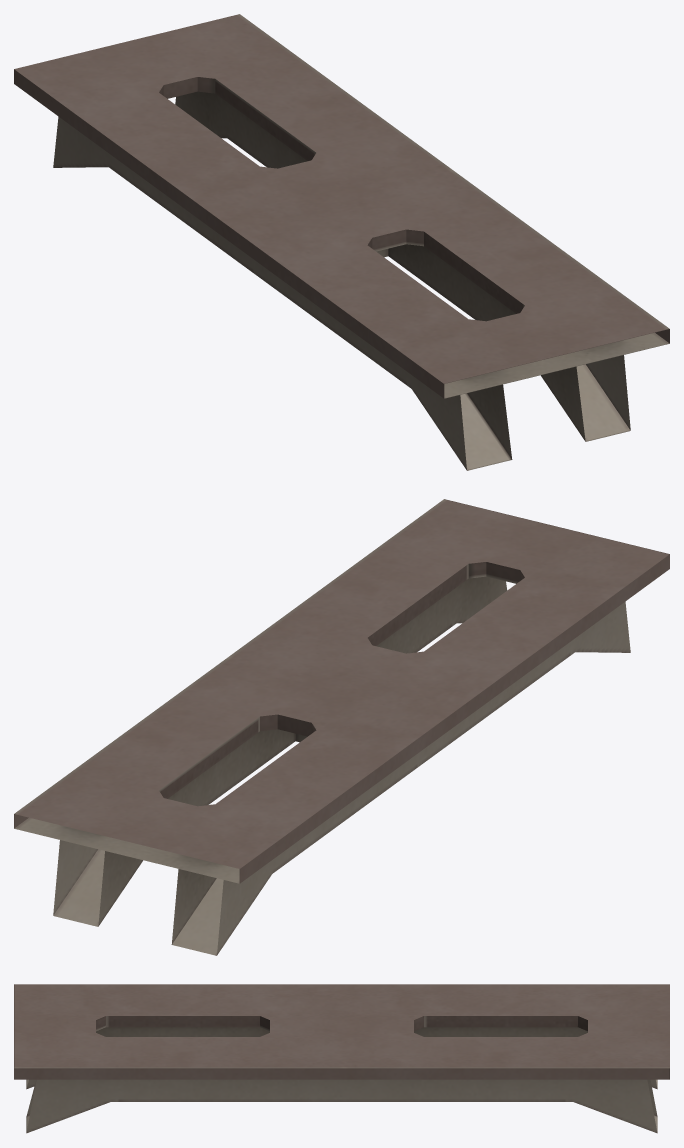
File: short_beam_hole.obj
3 renders of one model, top to bottom at view 1: azimuth 30°, elevation 25°; view 2: azimuth 150°, elevation 25°; view 3: azimuth 270°, elevation 25°, orthographic. The views are drawn at different scales.
Parts seen in each view (by area): view 1: short_beam_hole; view 2: short_beam_hole; view 3: short_beam_hole.
Part boxes in pixels (x1,y1,x2,y2): short_beam_hole: (14, 14, 669, 470); short_beam_hole: (14, 499, 669, 955); short_beam_hole: (14, 984, 669, 1133).
Size of the model in its own units: 2.5 by 1.06 by 8.25.
Materials: 2 (2 with a texture image).
